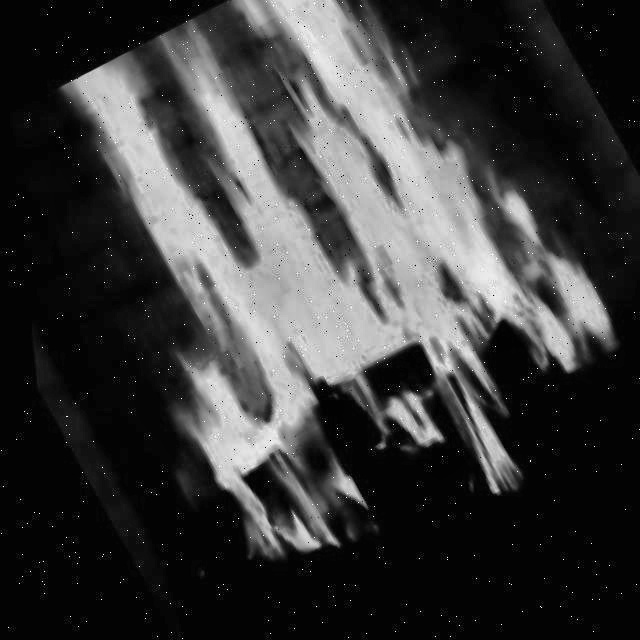Fire: (48, 0, 625, 521)
